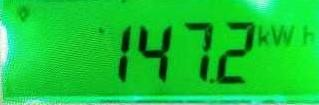.: (258, 23, 314, 50)
0: (208, 78, 216, 84)
1: (176, 22, 215, 82)
2: (115, 25, 134, 80)
3: (214, 23, 259, 83)
5: (135, 24, 174, 81)
